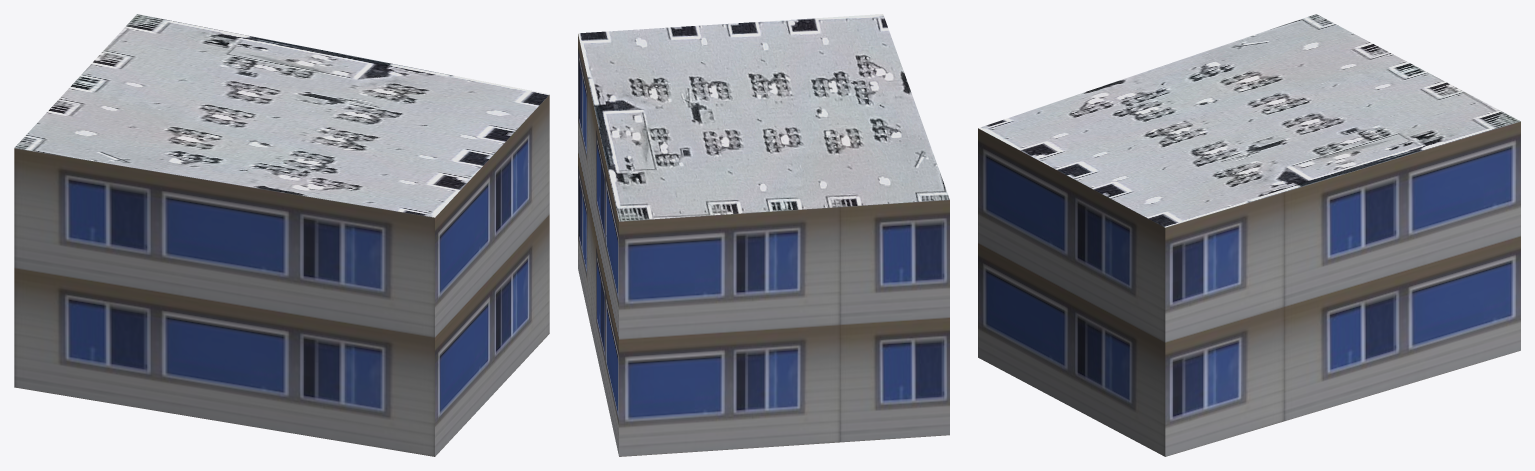
File: ResTex__4805.fbx
The picture shows the model from 3 angles, left to right: view 1: azimuth 30°, elevation 25°; view 2: azimuth 150°, elevation 25°; view 3: azimuth 270°, elevation 25°; orthographic projection. The views are drawn at different scales.
Parts seen in each view (by area): view 1: CityEngineMaterial_23_m, CityEngineMaterial_4_m; view 2: CityEngineMaterial_23_m, CityEngineMaterial_4_m; view 3: CityEngineMaterial_23_m, CityEngineMaterial_4_m.
Part boxes in pixels (left/top/right/bottom): CityEngineMaterial_23_m: left=14, top=95, right=549, bottom=456; CityEngineMaterial_4_m: left=14, top=14, right=549, bottom=217; CityEngineMaterial_23_m: left=578, top=34, right=949, bottom=456; CityEngineMaterial_4_m: left=578, top=14, right=949, bottom=221; CityEngineMaterial_23_m: left=978, top=121, right=1520, bottom=456; CityEngineMaterial_4_m: left=978, top=14, right=1520, bottom=227.
Size of the model in its own units: 11.99 by 6 by 12.87.
Materials: 2 (2 with a texture image).
